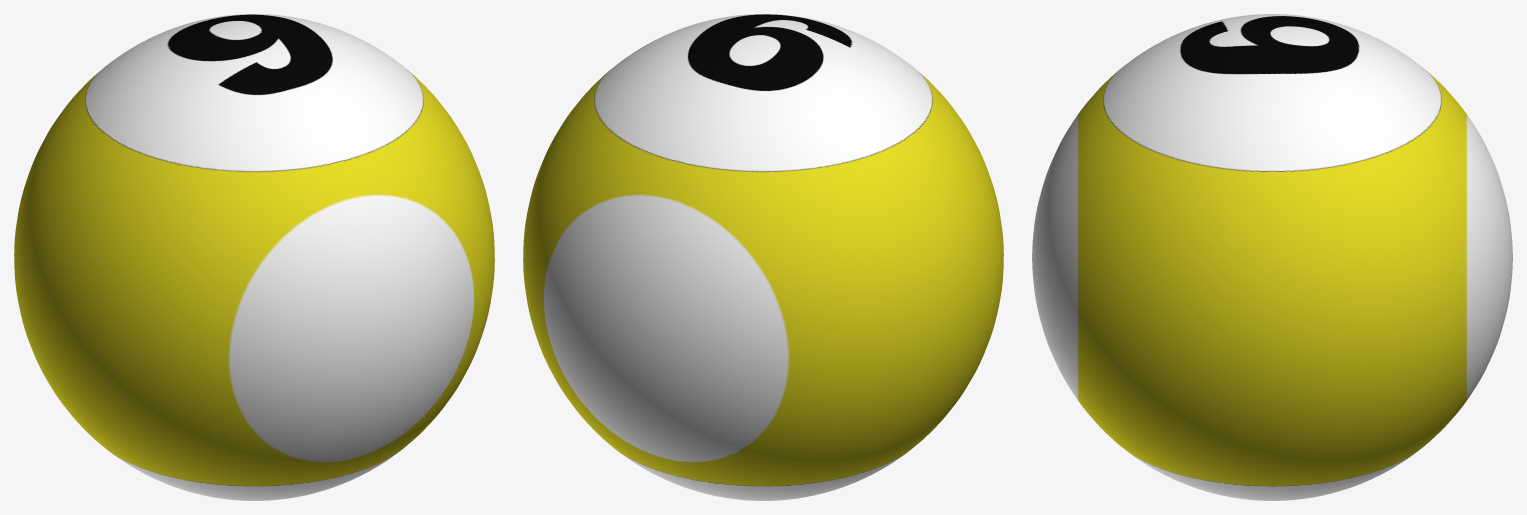
3 views of the same model, side by side, from view 1: azimuth 30°, elevation 25°; view 2: azimuth 150°, elevation 25°; view 3: azimuth 270°, elevation 25° (orthographic).
Visible parts, largest first — view 1: 9-nine; view 2: 9-nine; view 3: 9-nine.
Boxes of the visible parts, <box> form: 9-nine: <box>14,14,494,500</box>; 9-nine: <box>523,14,1003,500</box>; 9-nine: <box>1032,14,1512,500</box>.
Bounding box in the file's own units: 0.4996 × 0.5085 × 0.4996.
Materials: 1 (1 with a texture image).
